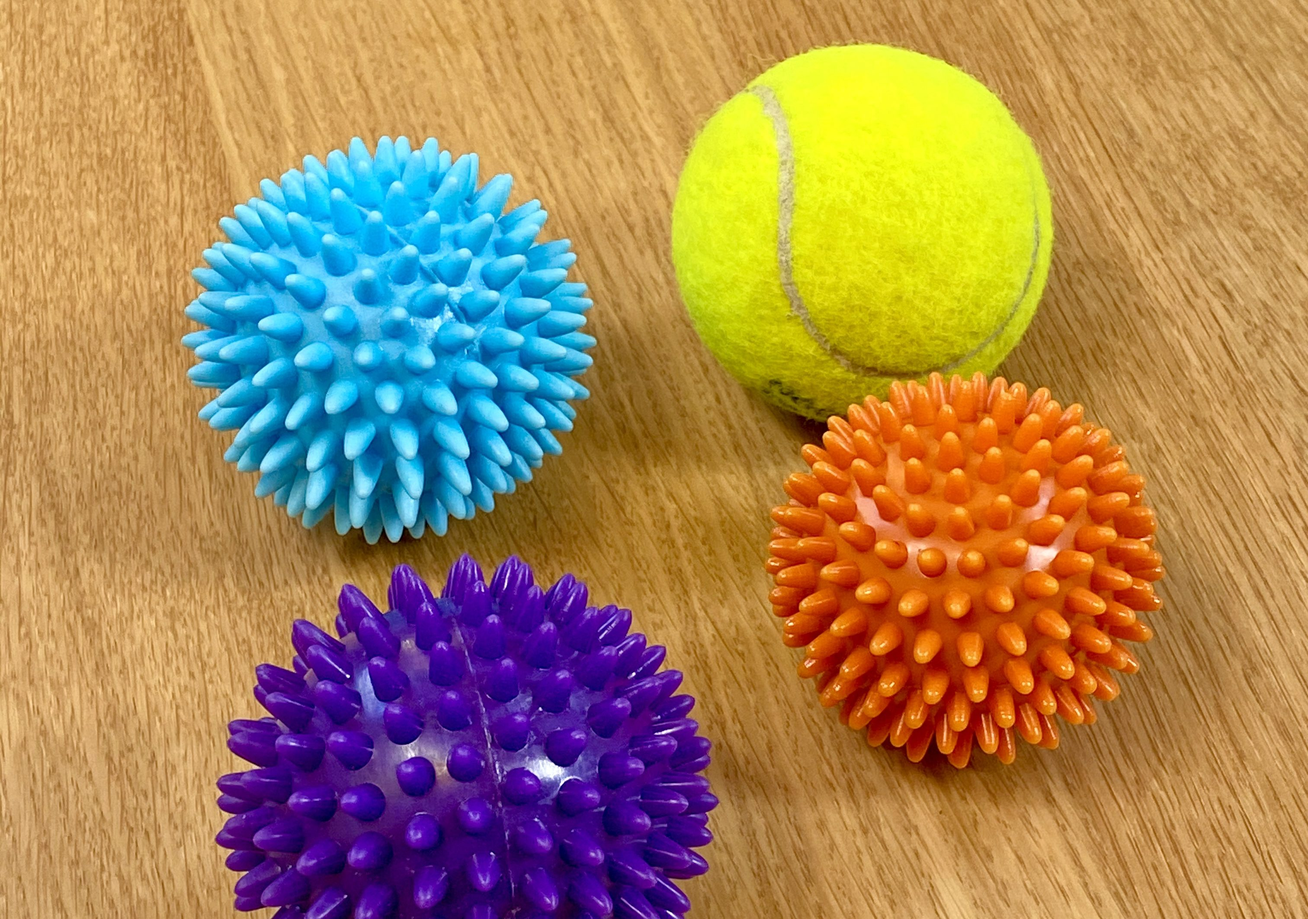sphere: (217, 555, 719, 919), (182, 135, 598, 545), (764, 370, 1165, 769), (671, 44, 1052, 423)
